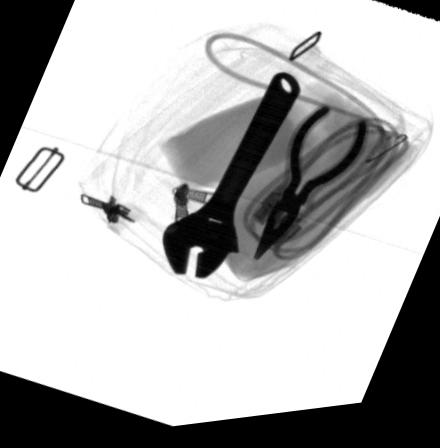Pliers: (253, 113, 368, 271)
Wrench: (160, 81, 303, 285)
